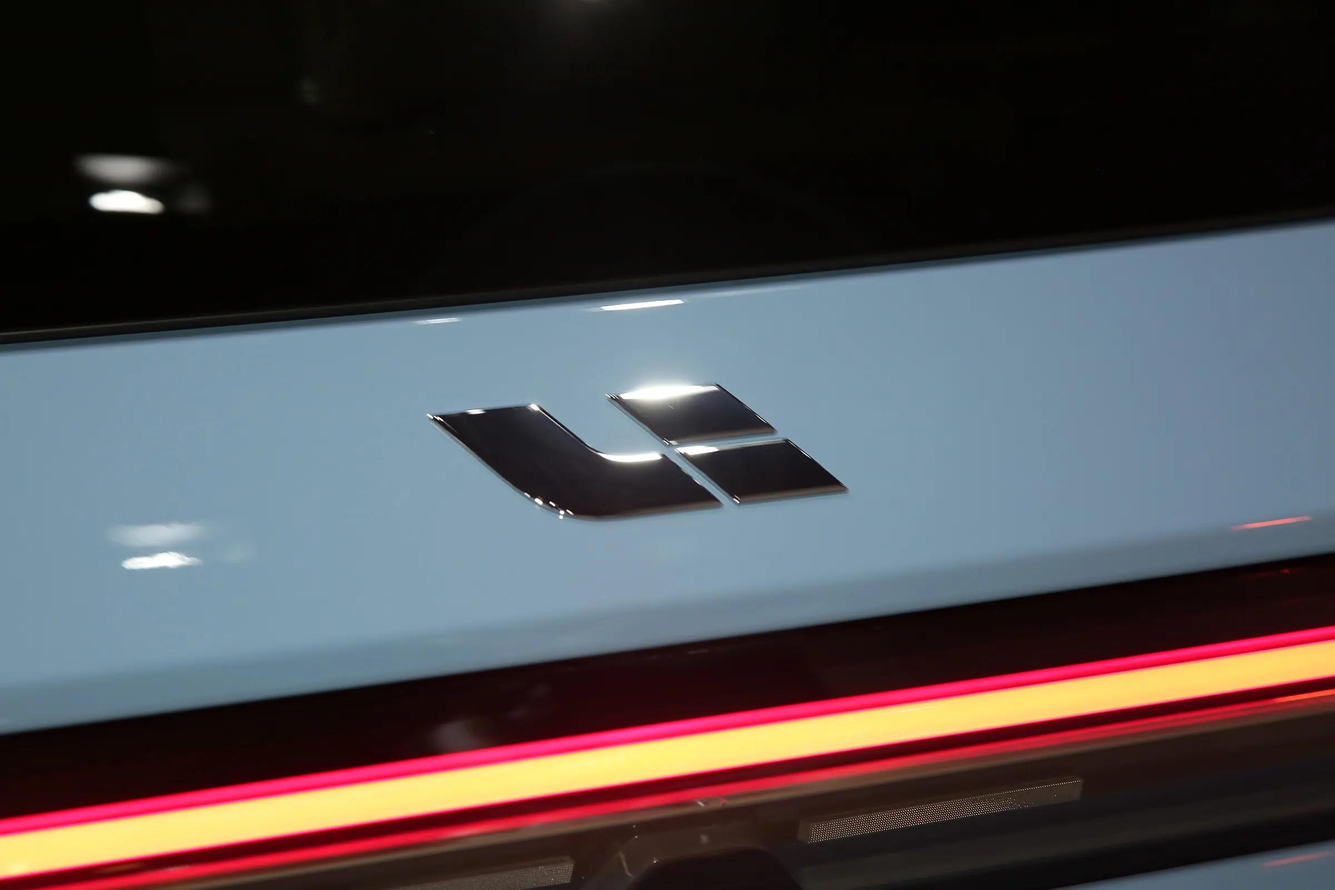Li Auto: (431, 383, 849, 521)
